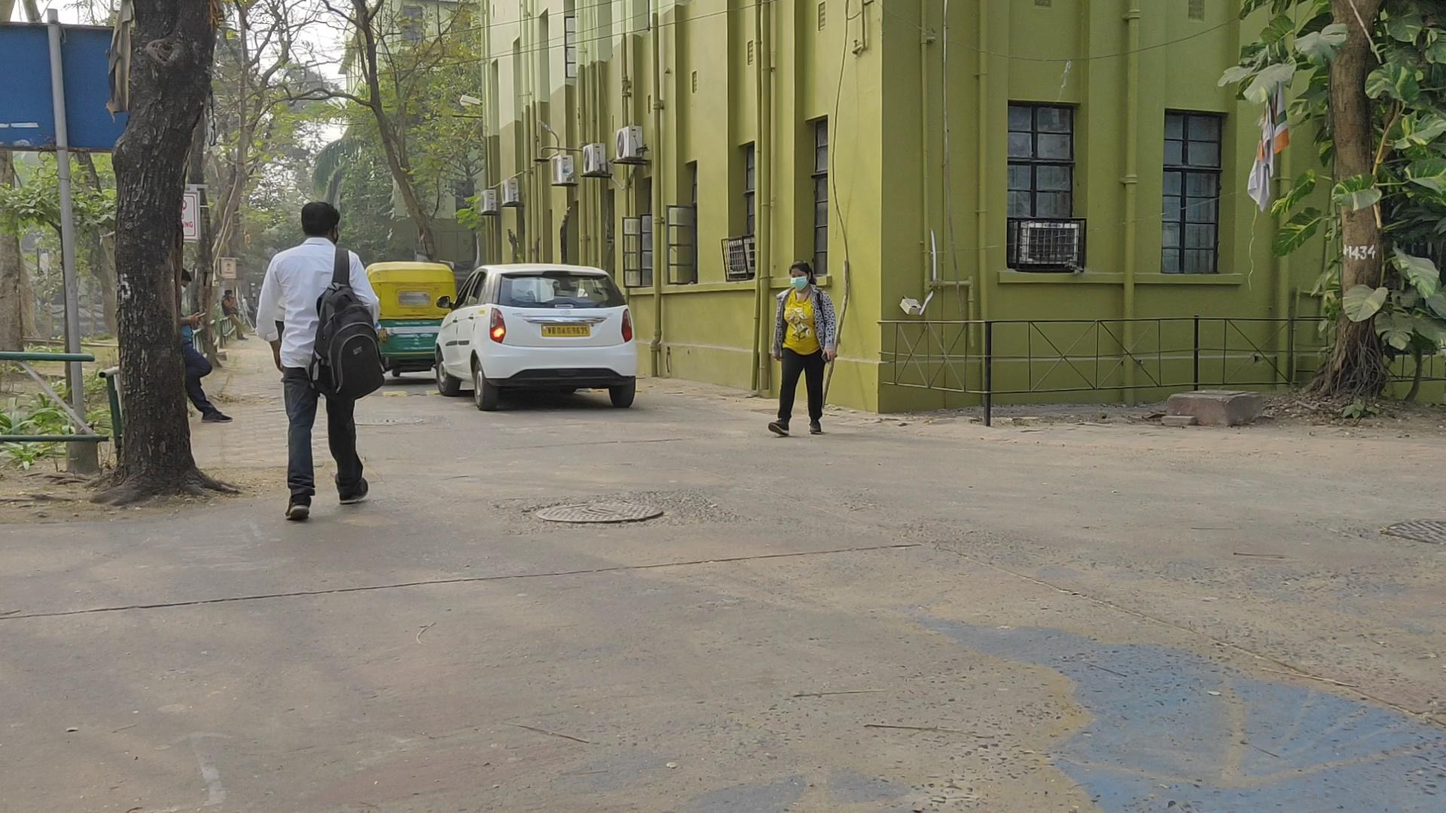Auto: (362, 262, 457, 383)
car: (435, 264, 637, 410)
